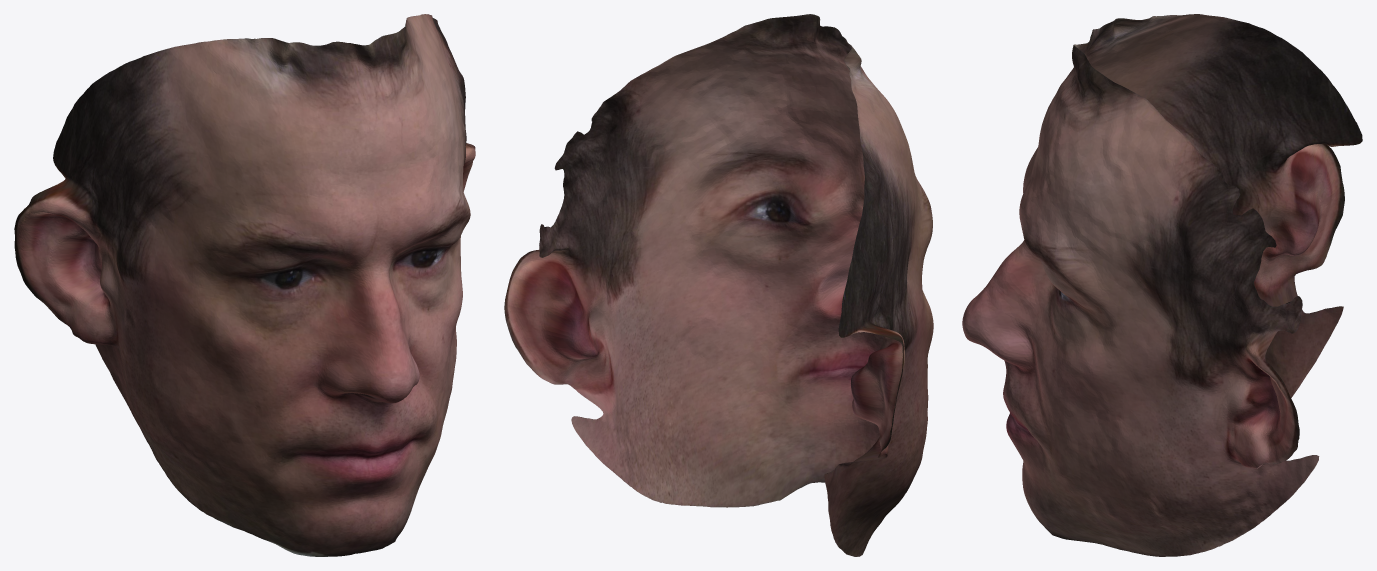
Rendered from merge3d_edited.obj.
3 views of the same model, side by side, from view 1: azimuth 30°, elevation 25°; view 2: azimuth 150°, elevation 25°; view 3: azimuth 270°, elevation 25° (orthographic). The views are drawn at different scales.
Visible parts, largest first — view 1: merge3d; view 2: merge3d; view 3: merge3d.
Part boxes in pixels (x1,y1,x2,y2): merge3d: [14, 14, 475, 556]; merge3d: [504, 14, 933, 556]; merge3d: [962, 14, 1362, 556].
Bounding box in the file's own units: 19.72 × 21.83 × 16.2.
1 material, 1 textured.
